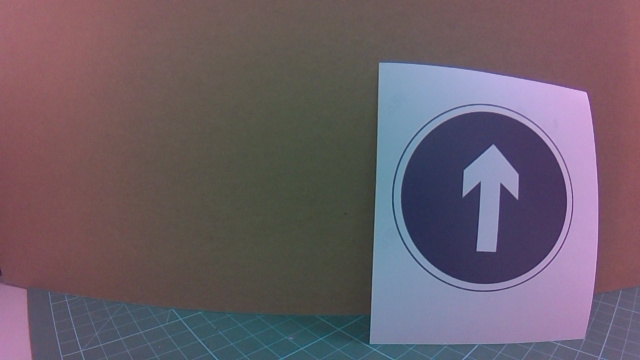forward: (410, 106, 593, 312)
